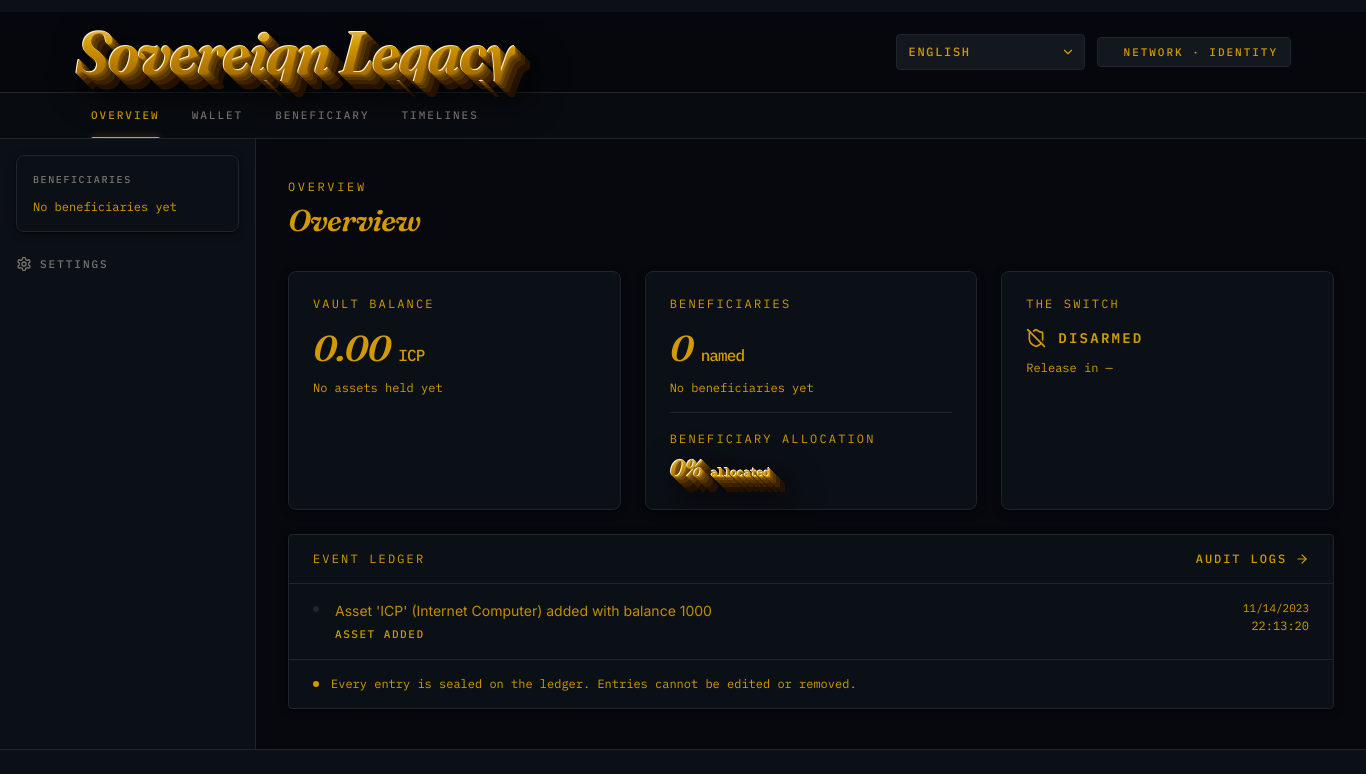
OverviewPage cover (condensed feed localizes consistently) › localizes the condensed recent-activity feed event types and descriptions
Expected: the text "Asset added" is shown, [335,627,424,641]
Expected: the text "Asset 'ICP' (Internet Computer) added with balance 1000" is shown, [335,602,712,618]
Select "Español" in the dropdown named "Language" at (990, 52), box [896,34,1084,70]
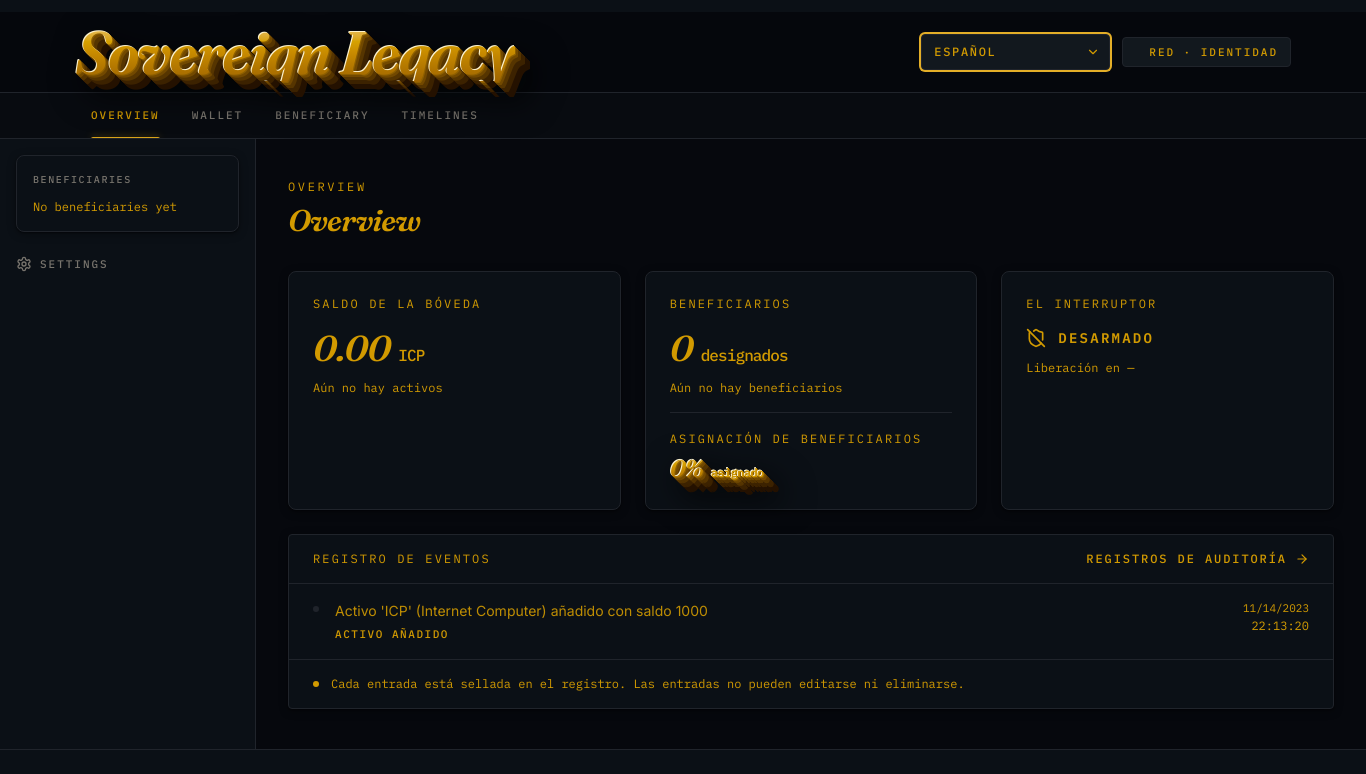
Expected: the text "Activo añadido" is shown, [335,627,449,641]
Expected: the text "Activo 'ICP' (Internet Computer) añadido con saldo 1000" is shown, [335,602,708,618]
